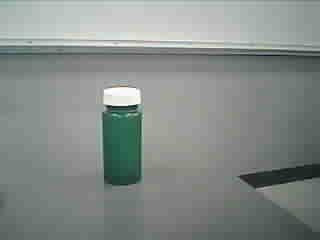Bottle C: (93, 81, 153, 192)
